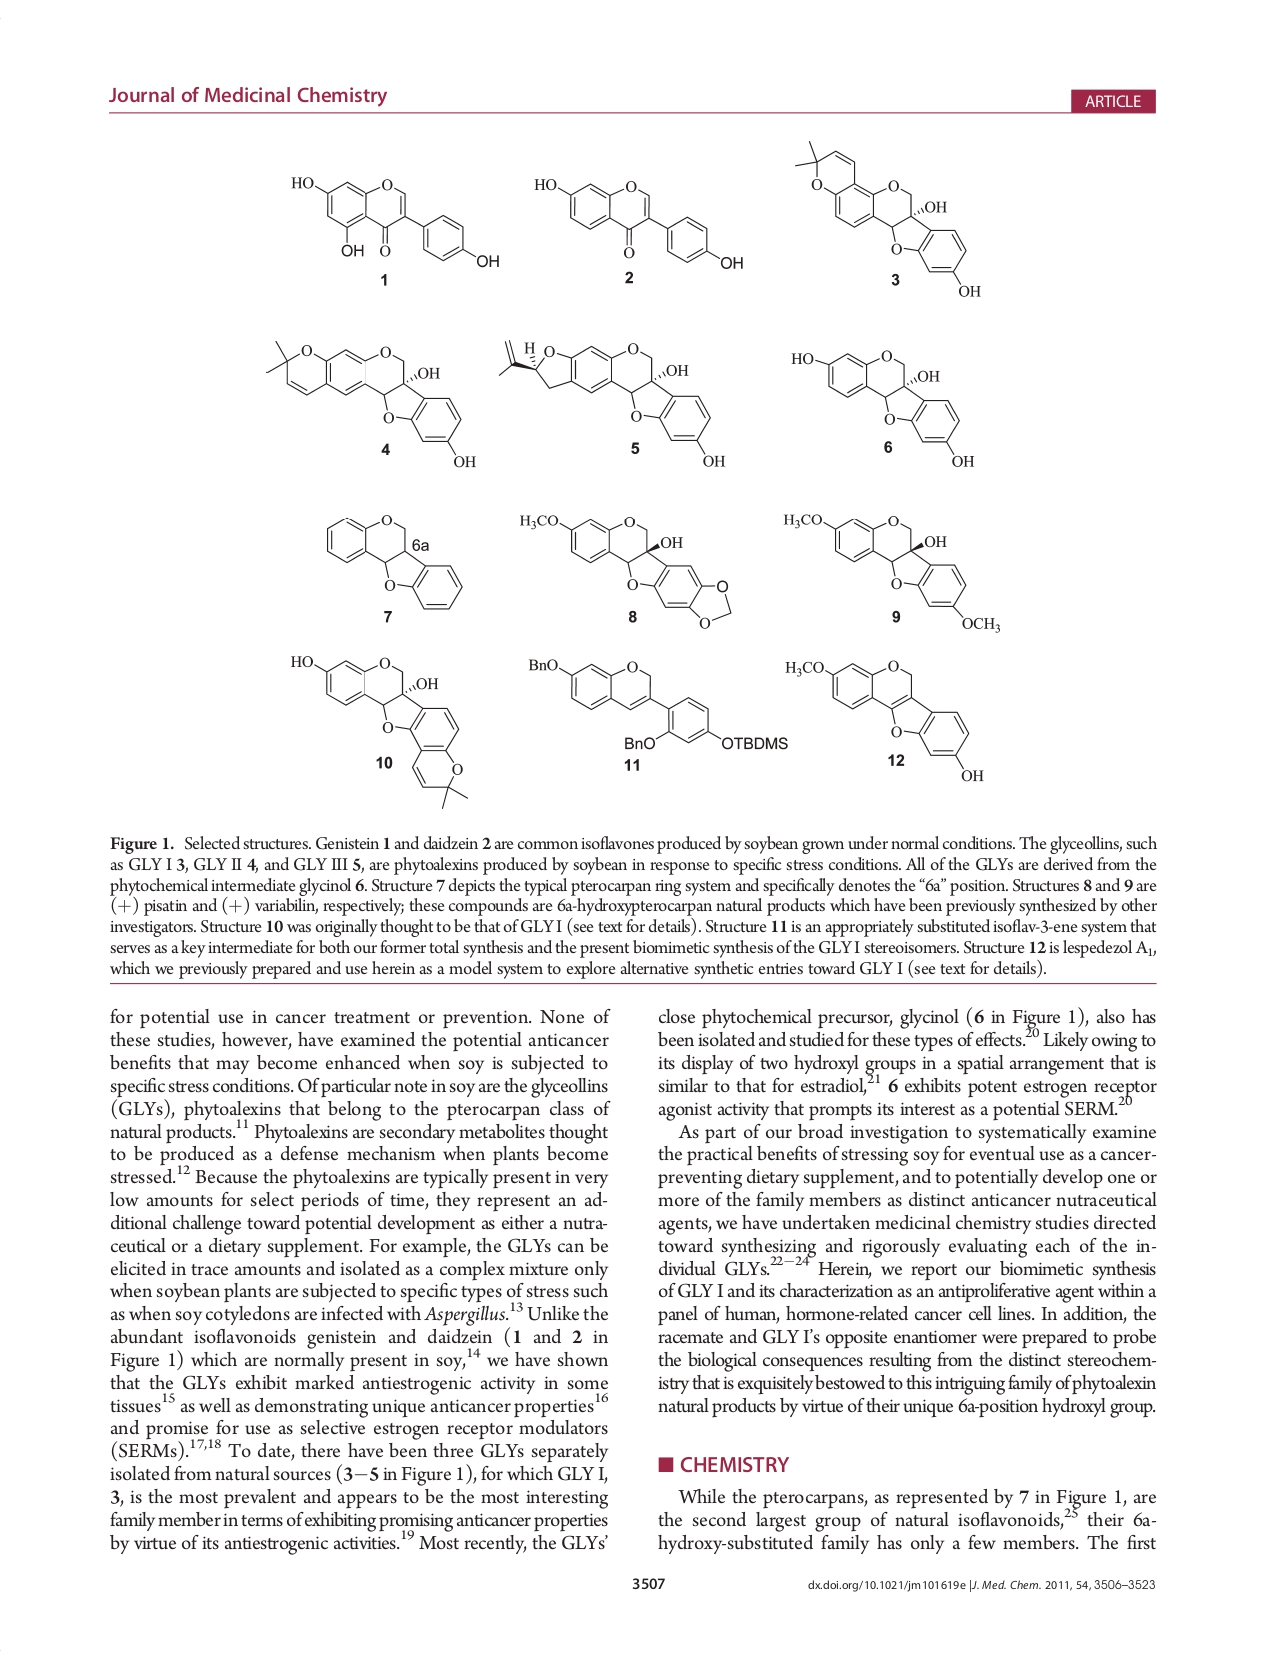exist_molecular: (790, 138, 985, 298), (497, 334, 727, 468), (778, 505, 1001, 637), (286, 649, 467, 809), (261, 338, 477, 469), (525, 653, 789, 759), (783, 654, 985, 785), (516, 509, 733, 630), (789, 344, 977, 469), (285, 168, 501, 270), (529, 174, 747, 273), (318, 509, 464, 612)
